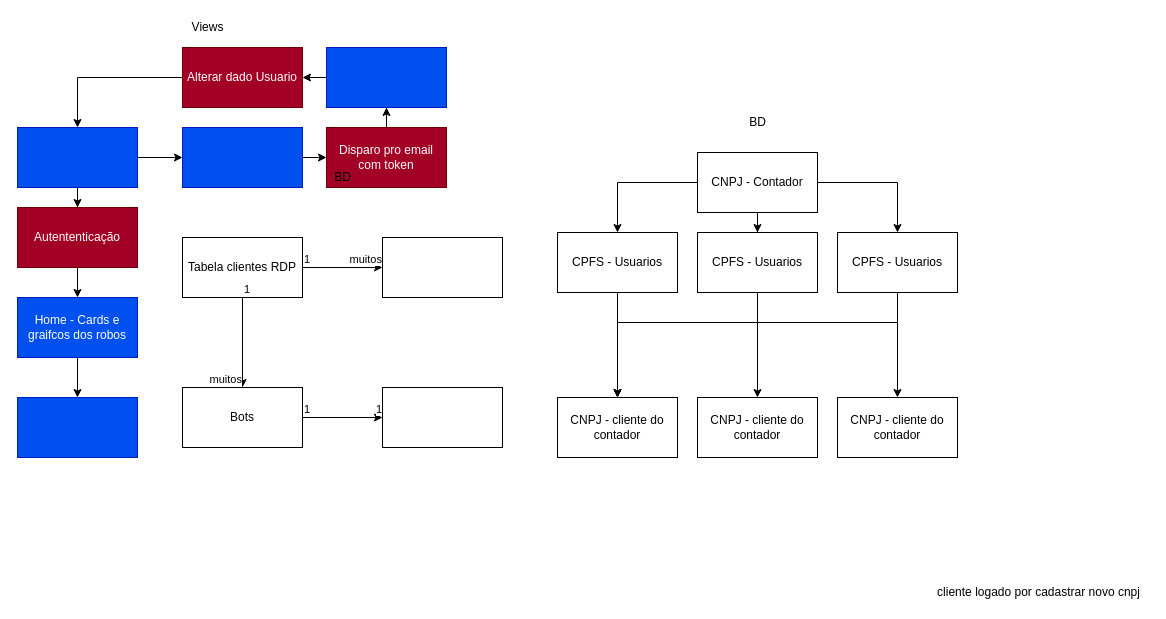
The diagram is 1166 pixels wide and 619 high, and some of its shapes have lost their labels. The centre of each missing label's shape, as x and y in pixels:
"Configuração" goes at pixel 442 417.
"Página Login" goes at pixel 77 157.
"Página Reset Senha" goes at pixel 386 77.
"Página Robo - Cards e Tabela de configuração" goes at pixel 77 427.
"Reset Senha" goes at pixel 242 157.
"Tabela de Usuarios" goes at pixel 442 267.
